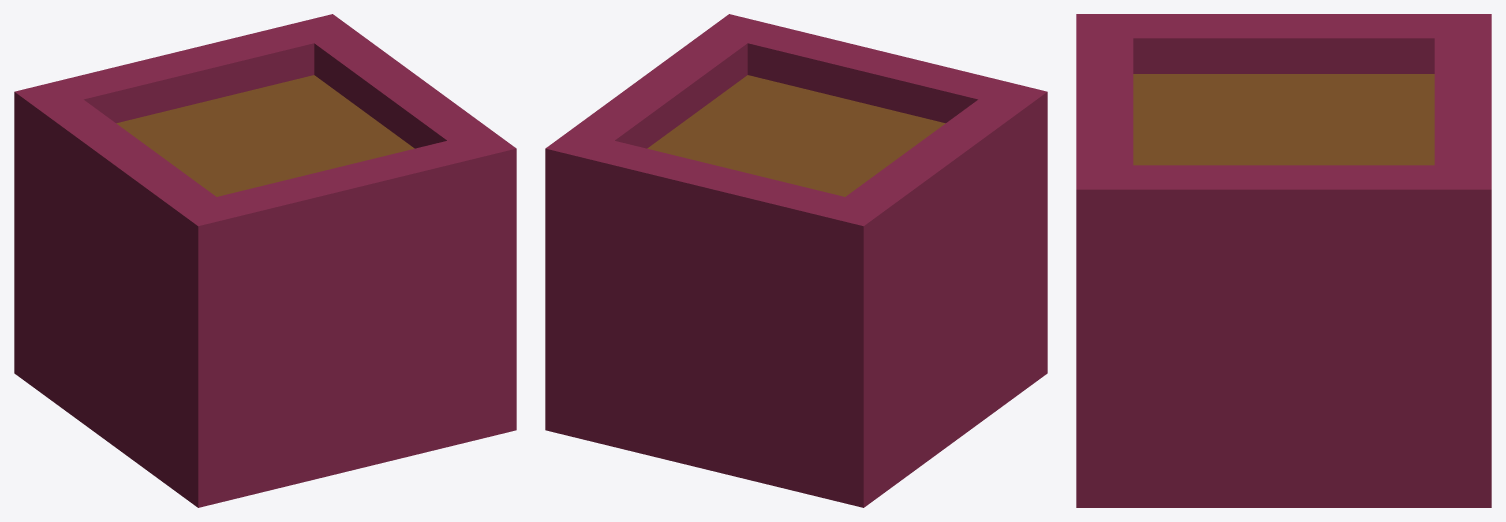
File: vase_1a.fbx
3 views of the same model, side by side, from view 1: azimuth 30°, elevation 25°; view 2: azimuth 150°, elevation 25°; view 3: azimuth 270°, elevation 25° (orthographic). The views are drawn at different scales.
Visible parts, largest first — view 1: vase_1a; view 2: vase_1a; view 3: vase_1a.
Part boxes in pixels (bbox=[...]): vase_1a: bbox=[14, 14, 516, 507]; vase_1a: bbox=[545, 14, 1047, 507]; vase_1a: bbox=[1076, 14, 1491, 507].
Bounding box in the file's own units: 49.6 × 41.94 × 49.6.
